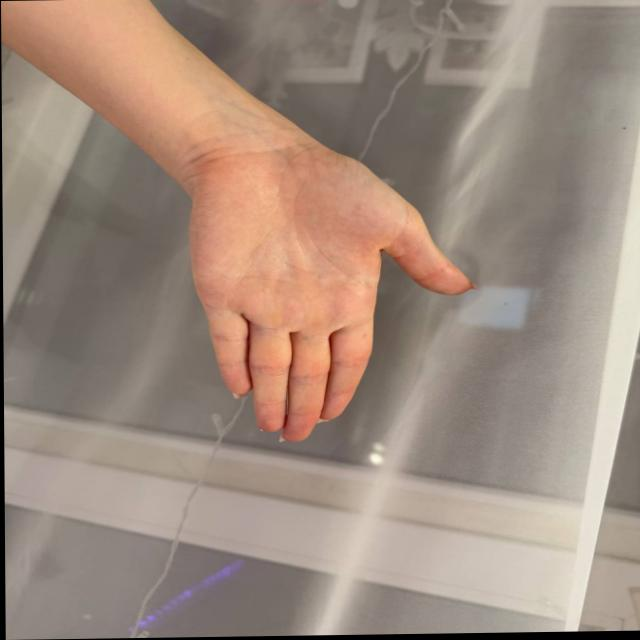v: (176, 166, 492, 454)
